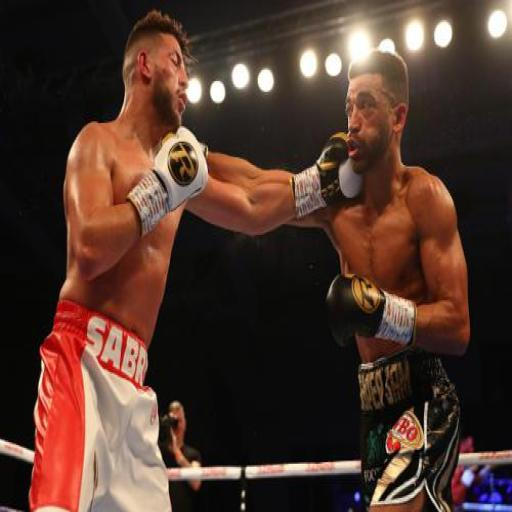boxing: (26, 9, 360, 509), (187, 39, 512, 512)
